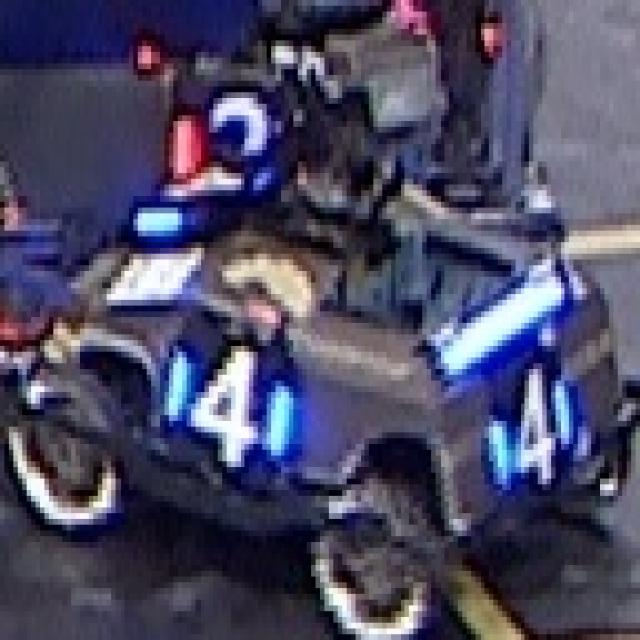B4: (156, 334, 298, 467), (480, 358, 573, 490)
